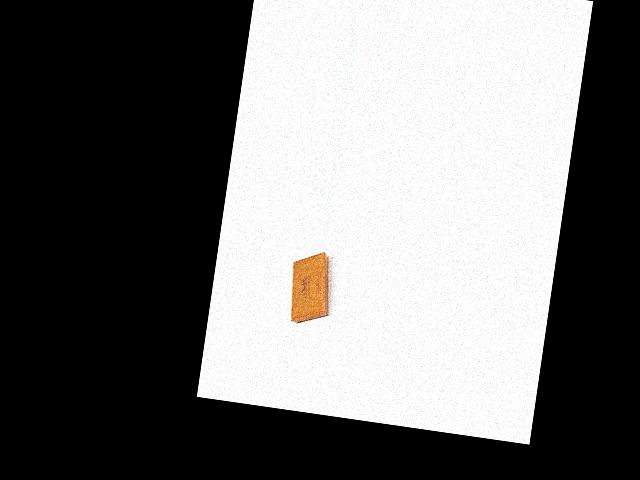chocolate: (282, 248, 343, 330)
